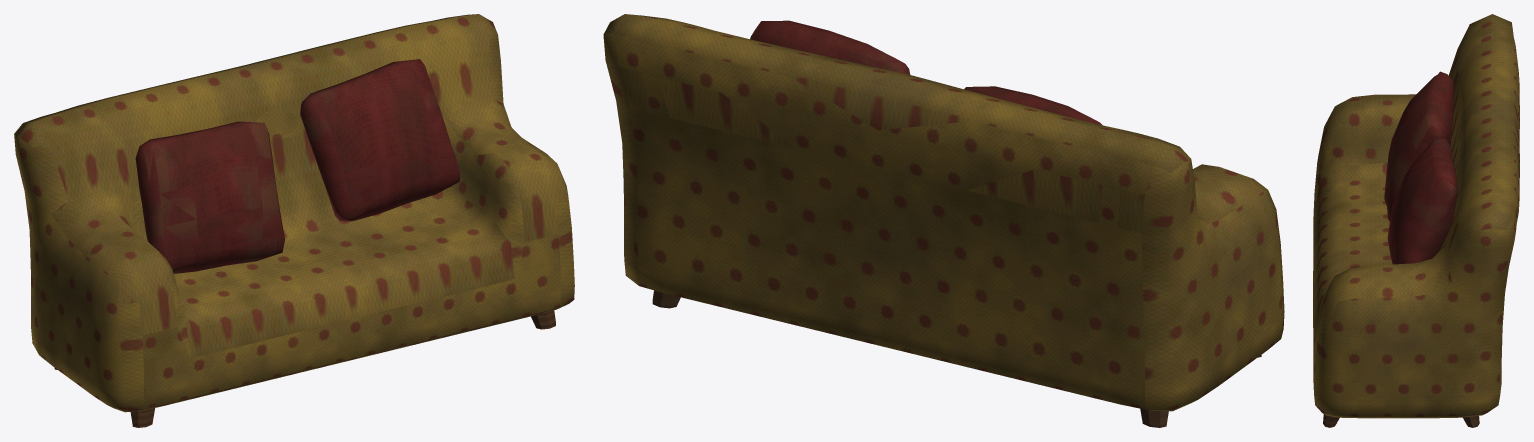
File: Couch.fbx
3 renders of one model, left to right at view 1: azimuth 30°, elevation 25°; view 2: azimuth 150°, elevation 25°; view 3: azimuth 270°, elevation 25°, orthographic. The views are drawn at different scales.
Parts seen in each view (by area): view 1: Couch, CouchPillow.001, CouchPillow.002, CouchLegs; view 2: Couch, CouchPillow.002, CouchPillow.001, CouchLegs; view 3: Couch, CouchPillow.002, CouchPillow.001, CouchLegs.
Boxes of the visible parts, box(x1,y1,x2,y2) form: Couch: box(14, 14, 574, 412); CouchPillow.001: box(135, 121, 284, 273); CouchPillow.002: box(300, 59, 460, 221); CouchLegs: box(54, 310, 555, 427); Couch: box(603, 14, 1284, 411); CouchPillow.002: box(750, 20, 910, 74); CouchPillow.001: box(964, 86, 1102, 125); CouchLegs: box(652, 290, 1261, 427); Couch: box(1313, 14, 1519, 418); CouchPillow.002: box(1387, 137, 1457, 264); CouchPillow.001: box(1384, 71, 1454, 221); CouchLegs: box(1323, 414, 1479, 427).
Bounding box in the file's own units: 1.9 × 0.937 × 0.7868.
3 materials, 3 textured.
